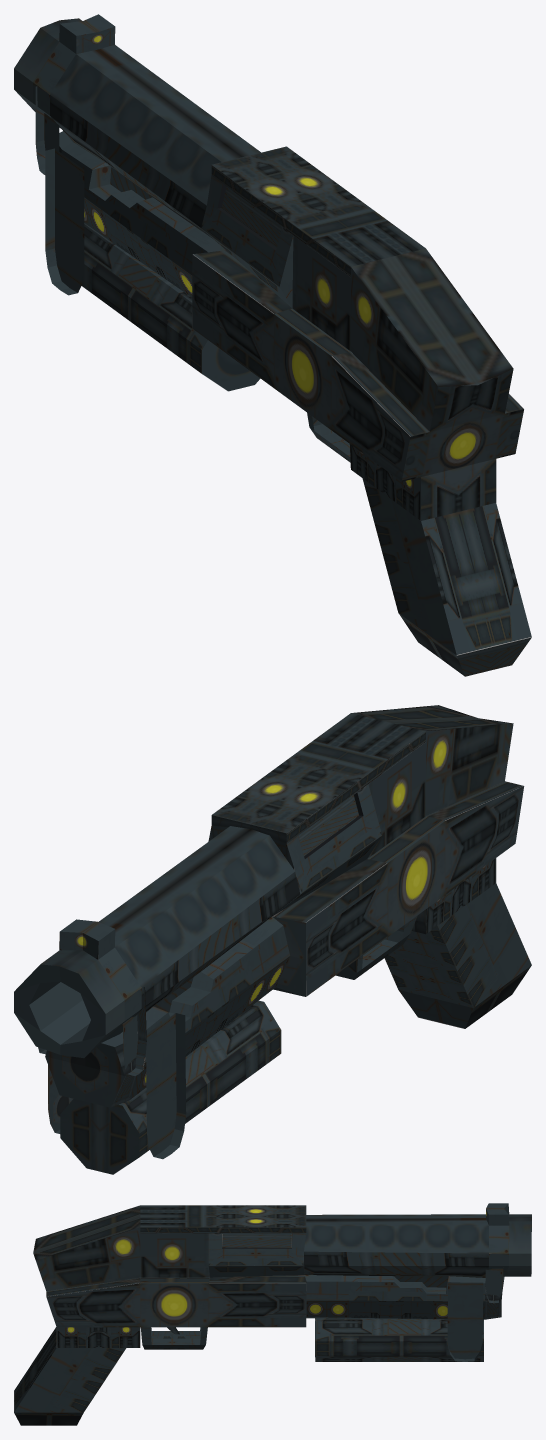
Rendered from Shotgun 2.fbx.
3 views of the same model, one above another, from view 1: azimuth 30°, elevation 25°; view 2: azimuth 150°, elevation 25°; view 3: azimuth 270°, elevation 25° (orthographic). The views are drawn at different scales.
Parts seen in each view (by area): view 1: Cube.001, Cube.003, Cube.000; view 2: Cube.001, Cube.003, Cube.000; view 3: Cube.001, Cube.003, Cube.000.
Part boxes in pixels (x1,y1,x2,y2): Cube.001: [14, 14, 531, 676]; Cube.003: [45, 148, 84, 295]; Cube.000: [35, 86, 59, 174]; Cube.001: [14, 705, 531, 1174]; Cube.003: [48, 1013, 186, 1159]; Cube.000: [38, 987, 146, 1075]; Cube.001: [14, 1203, 531, 1425]; Cube.003: [447, 1282, 483, 1361]; Cube.000: [485, 1256, 503, 1303].
Bounding box in the file's own units: 161 × 476 × 1063.
